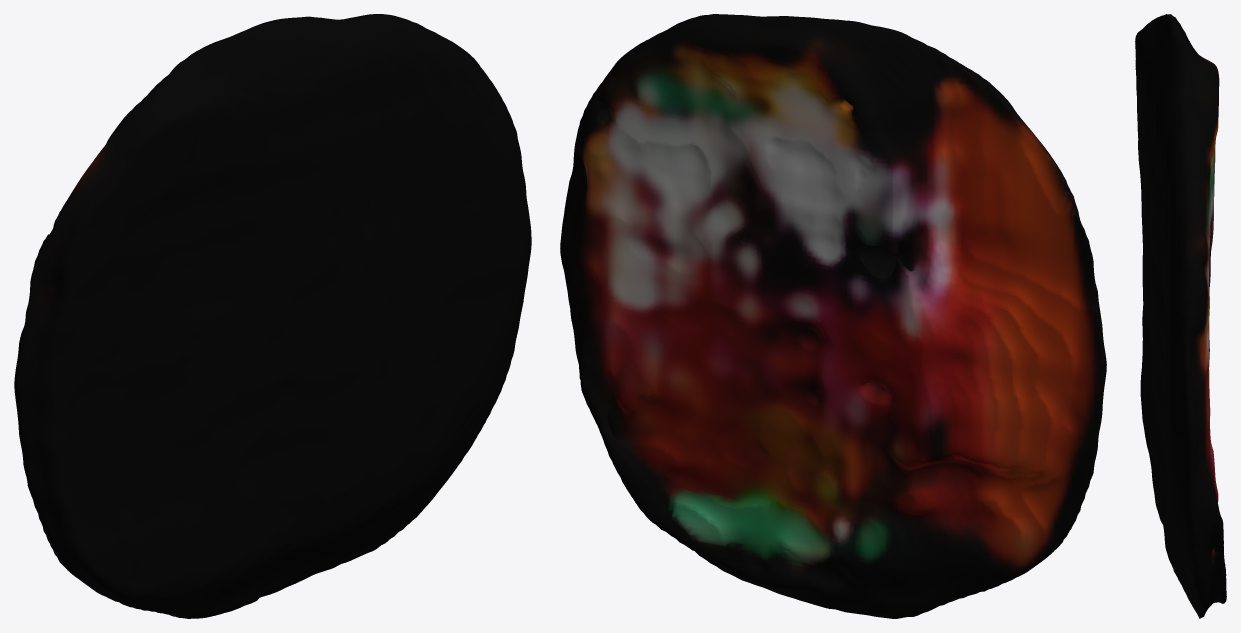
The picture shows the model from 3 angles, left to right: view 1: azimuth 30°, elevation 25°; view 2: azimuth 150°, elevation 25°; view 3: azimuth 270°, elevation 25°; orthographic projection. The views are drawn at different scales.
Parts seen in each view (by area): view 1: plyFile; view 2: plyFile; view 3: plyFile.
Part boxes in pixels (bbox=[...]): plyFile: bbox=[14, 14, 531, 618]; plyFile: bbox=[560, 14, 1106, 618]; plyFile: bbox=[1135, 14, 1226, 618].
Size of the model in its own units: 186 by 196 by 30.13.
